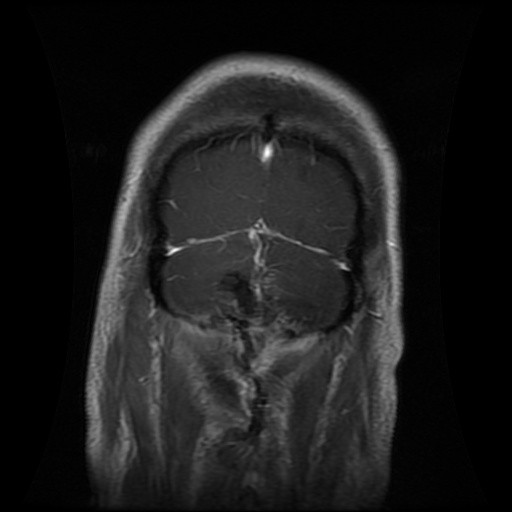glioma: (217, 271, 276, 323)
